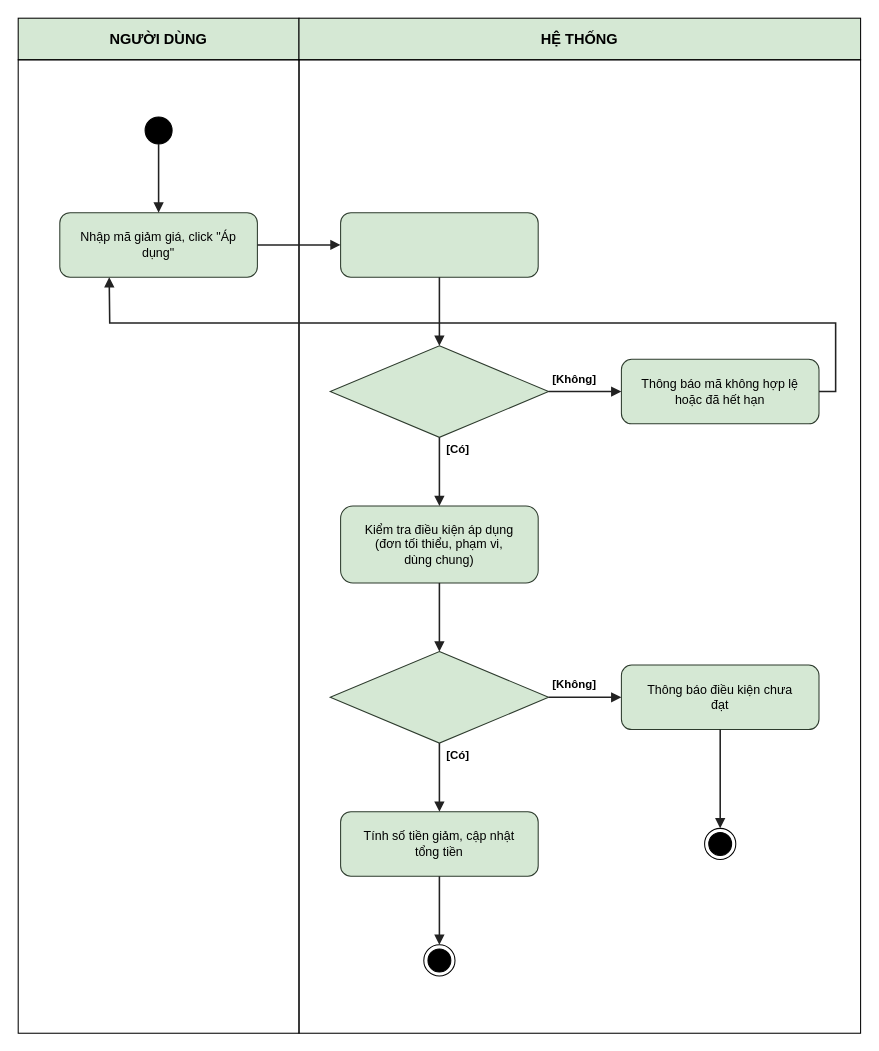
Some shapes in this 879 by 1051 pixel diagram are drawn without their labels. The centre of each missing label's shape, as x and y in pixels:
"Kiểm tra mã (tồn tại, còn hạn, còn lượt dùng)" goes at (x=439, y=244).
"Mã hợp lệ?" goes at (x=439, y=391).
"Đủ điều kiện áp dụng?" goes at (x=439, y=697).
